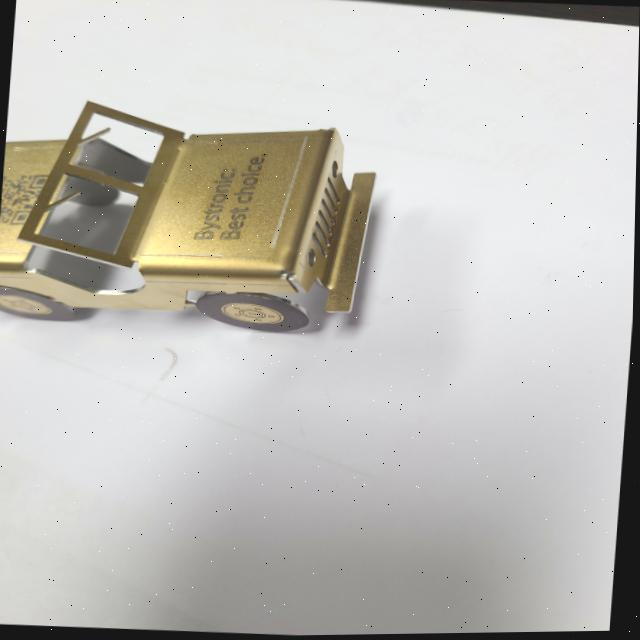tire: (197, 291, 314, 336), (0, 285, 82, 322)
